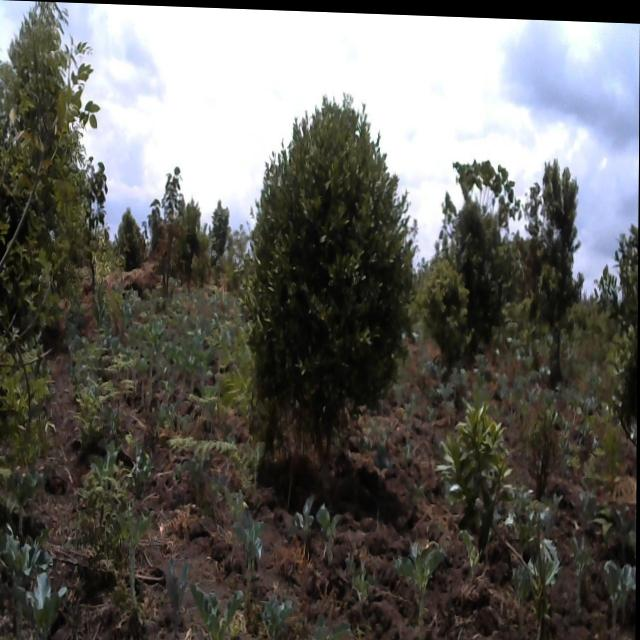Hass Avocado: (433, 394, 517, 542)
Salix alba: (226, 92, 420, 475)
cedrus: (418, 201, 516, 390)
other: (528, 151, 585, 363), (154, 160, 186, 298)
